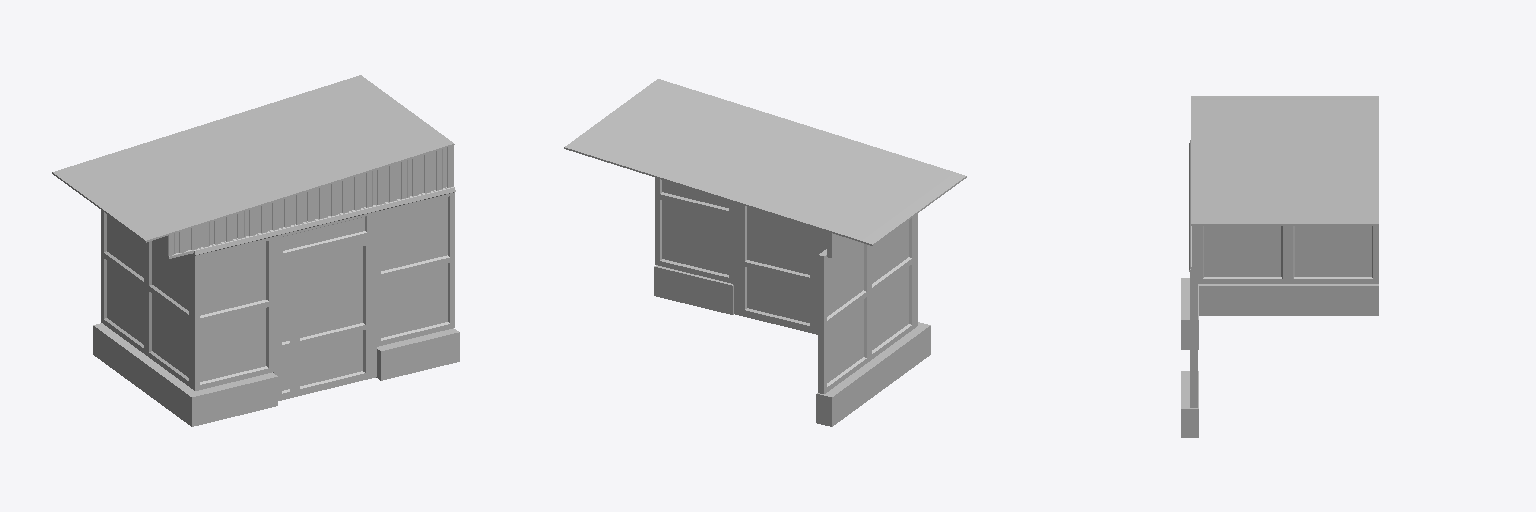
The model's file is room6.obj.
The picture shows the model from 3 angles: view 1: azimuth 30°, elevation 25°; view 2: azimuth 150°, elevation 25°; view 3: azimuth 270°, elevation 25°; orthographic projection.
Parts seen in each view (by area): view 1: group28 pCube20, group28 pCube11 group4, pCube13 group28, group28 pCube11 group3, group28 pCube11 group5, group28 pCube11 group6, group28 group3 pCube10 group2, group28 group4 pCube10 group2, group28 pCube17, group28 pCube14, group28 group6 pCube10 group2, group28 group5 pCube10 group2 (+4 smaller); view 2: group28 pCube20, pCube13 group28, group28 pCube11 group6, group28 pCube11 group3, group28 pCube11 group5, group28 group3 pCube10 group2, group28 group6 pCube10 group2, group28 group5 pCube10 group2, group28 pCube12; view 3: group28 pCube20, group28 pCube11 group6, group28 pCube11 group5, group28 group6 pCube10 group2, group28 group5 pCube10 group2, group28 pCube11 group3, group28 group3 pCube10 group2, group28 group4 pCube10 group2.
Boxes of the visible parts, x1=… form: group28 pCube20: x1=52, y1=75, x2=454, y2=258; group28 pCube11 group4: x1=192, y1=237, x2=273, y2=390; pCube13 group28: x1=294, y1=237, x2=371, y2=396; group28 pCube11 group3: x1=377, y1=192, x2=454, y2=346; group28 pCube11 group5: x1=146, y1=237, x2=191, y2=388; group28 pCube11 group6: x1=101, y1=210, x2=145, y2=354; group28 group3 pCube10 group2: x1=376, y1=328, x2=459, y2=380; group28 group4 pCube10 group2: x1=195, y1=372, x2=277, y2=424; group28 pCube17: x1=278, y1=213, x2=371, y2=259; group28 pCube14: x1=278, y1=256, x2=293, y2=400; group28 group6 pCube10 group2: x1=93, y1=323, x2=145, y2=386; group28 group5 pCube10 group2: x1=138, y1=356, x2=191, y2=419; group28 pCube20: x1=564, y1=79, x2=966, y2=258; pCube13 group28: x1=738, y1=204, x2=815, y2=333; group28 pCube11 group6: x1=818, y1=241, x2=869, y2=393; group28 pCube11 group3: x1=655, y1=178, x2=732, y2=283; group28 pCube11 group5: x1=870, y1=216, x2=914, y2=360; group28 group3 pCube10 group2: x1=654, y1=265, x2=733, y2=314; group28 group6 pCube10 group2: x1=816, y1=362, x2=876, y2=426; group28 group5 pCube10 group2: x1=870, y1=329, x2=921, y2=393; group28 pCube12: x1=733, y1=202, x2=737, y2=314; group28 pCube20: x1=1191, y1=96, x2=1378, y2=269; group28 pCube11 group6: x1=1288, y1=226, x2=1378, y2=283; group28 pCube11 group5: x1=1198, y1=226, x2=1287, y2=283; group28 group6 pCube10 group2: x1=1288, y1=284, x2=1378, y2=315; group28 group5 pCube10 group2: x1=1198, y1=284, x2=1287, y2=315; group28 pCube11 group3: x1=1190, y1=269, x2=1197, y2=407; group28 group3 pCube10 group2: x1=1181, y1=371, x2=1198, y2=437; group28 group4 pCube10 group2: x1=1181, y1=282, x2=1198, y2=349.
Bounding box in the file's own units: 491 × 326 × 273.